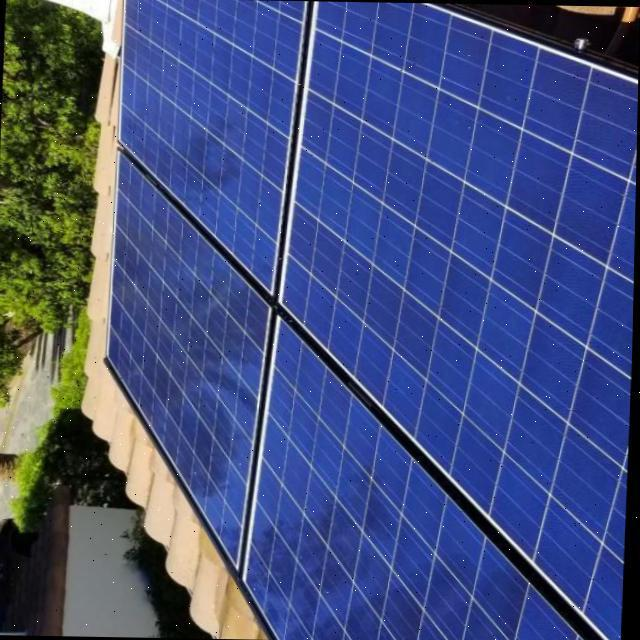Normal Solar Panel: (278, 0, 639, 640), (245, 313, 588, 640), (103, 152, 272, 567), (90, 0, 303, 286)
